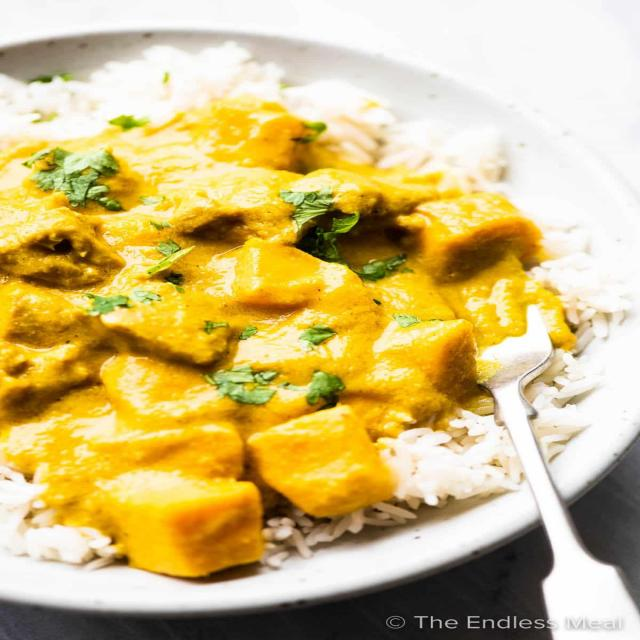chicken: (5, 129, 483, 557)
